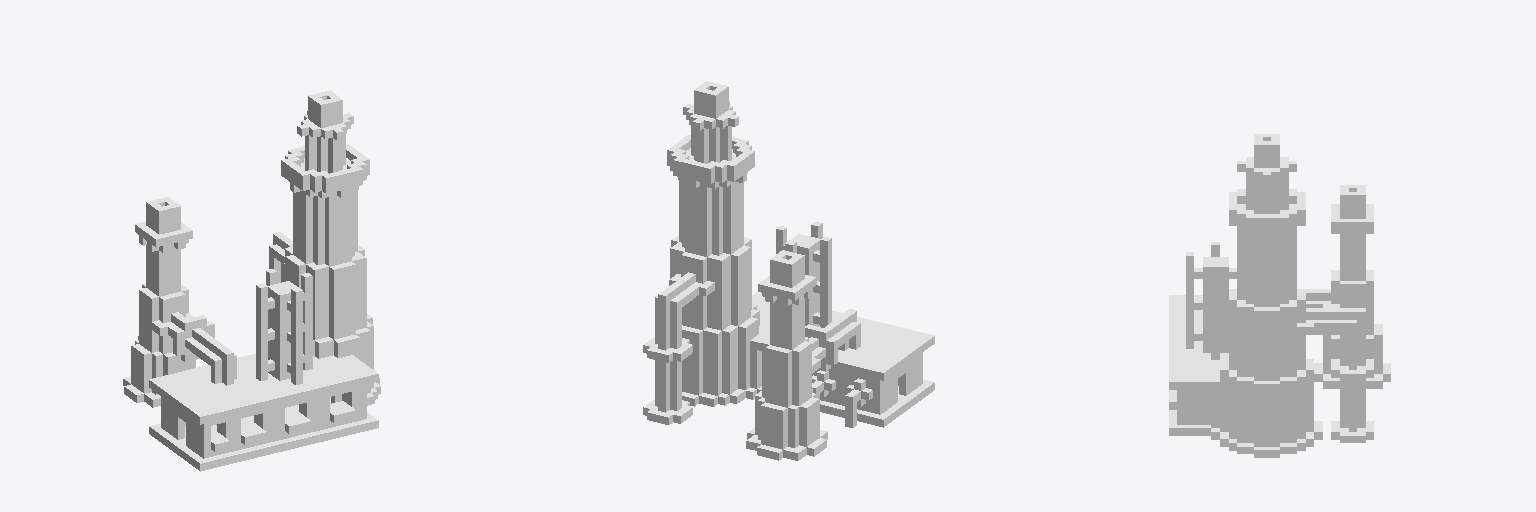
The model's file is factory-3.obj.
The picture shows the model from 3 angles: view 1: azimuth 30°, elevation 25°; view 2: azimuth 150°, elevation 25°; view 3: azimuth 270°, elevation 25°; orthographic projection.
Visible parts, largest first — view 1: object 1; view 2: object 1; view 3: object 1.
Part boxes in pixels (bbox=[...]): object 1: bbox=[123, 90, 380, 471]; object 1: bbox=[643, 81, 934, 460]; object 1: bbox=[1169, 134, 1390, 457].
Bounding box in the file's own units: 3 × 3.8 × 2.6.